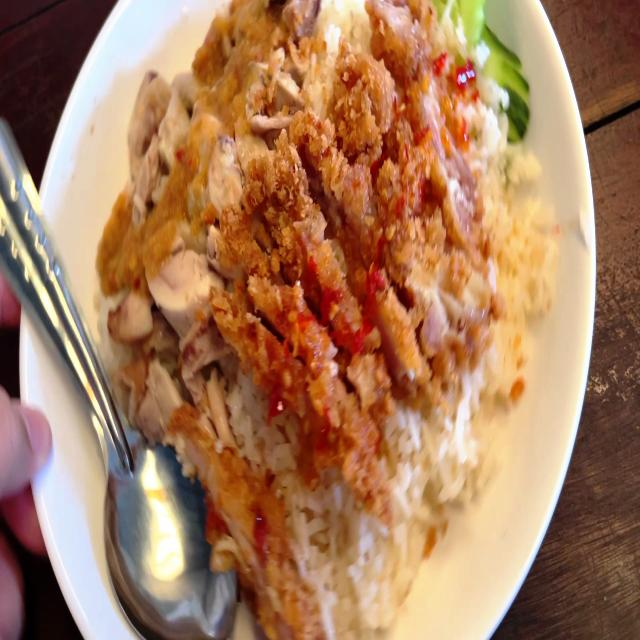boiled_chicken: (116, 1, 254, 347)
chicken_rice: (97, 0, 559, 631)
cucumber: (418, 0, 534, 126)
fried_chicken: (262, 53, 479, 467), (174, 400, 298, 608)
